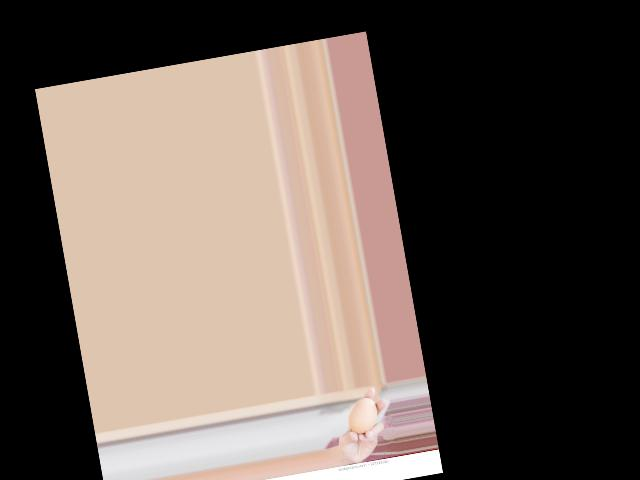egg: (345, 396, 381, 435)
